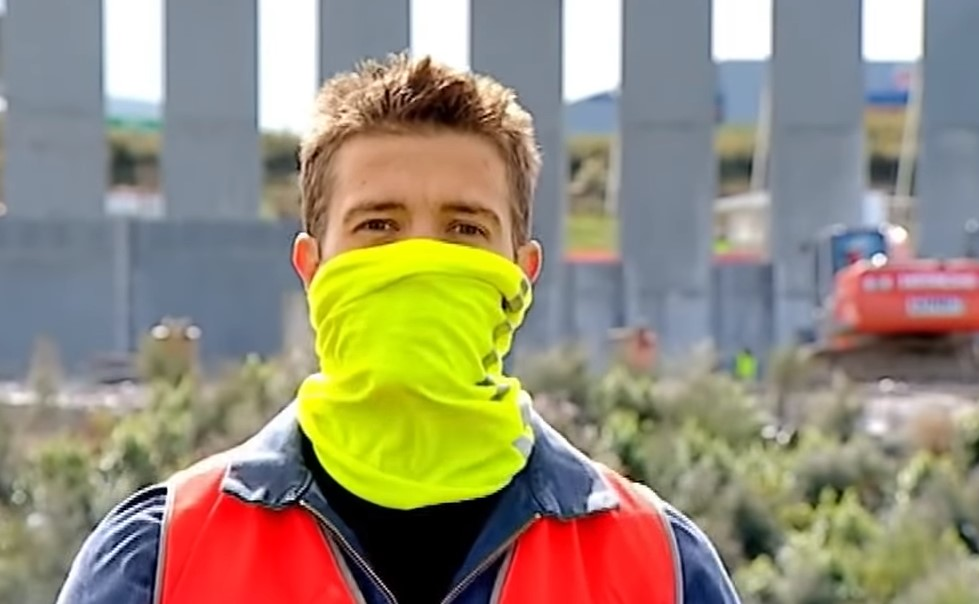face_with_mask: (300, 93, 544, 399)
